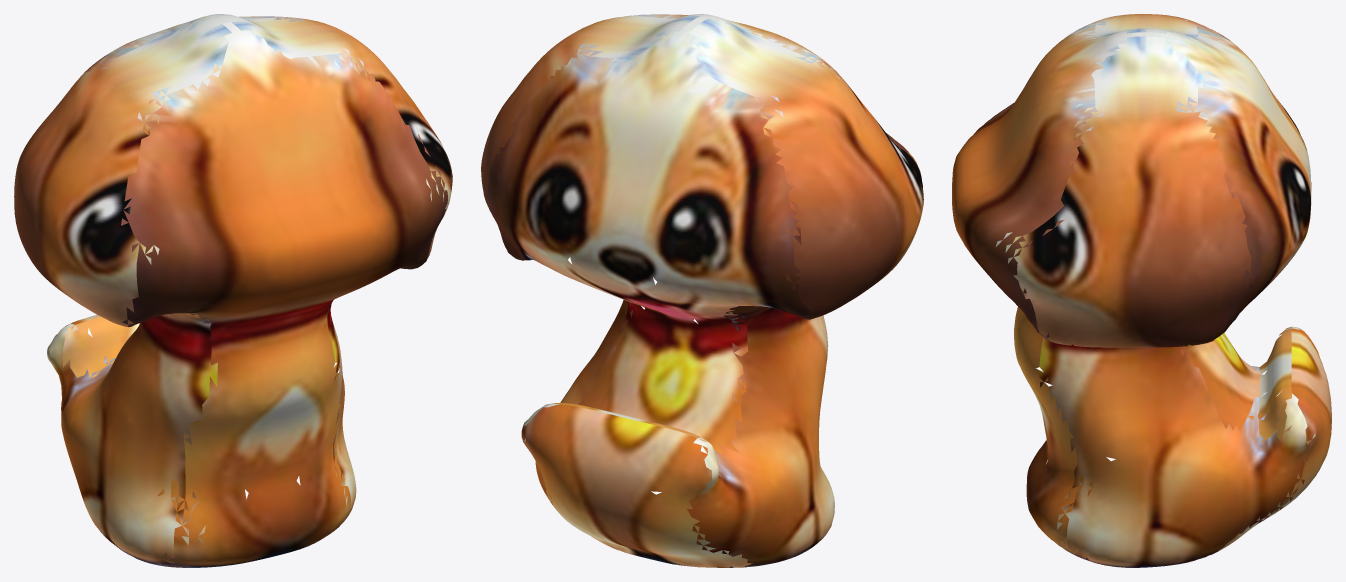
The model's file is Chiot.glb.
The picture shows the model from 3 angles, left to right: view 1: azimuth 30°, elevation 25°; view 2: azimuth 150°, elevation 25°; view 3: azimuth 270°, elevation 25°; orthographic projection. The views are drawn at different scales.
Visible parts, largest first — view 1: Chiot; view 2: Chiot; view 3: Chiot.
Boxes of the visible parts, x1=… form: Chiot: x1=14, y1=14, x2=452, y2=567; Chiot: x1=481, y1=14, x2=923, y2=567; Chiot: x1=952, y1=14, x2=1331, y2=567.
Bounding box in the file's own units: 3.33 × 4.13 × 2.86.
Materials: 1 (1 with a texture image).
